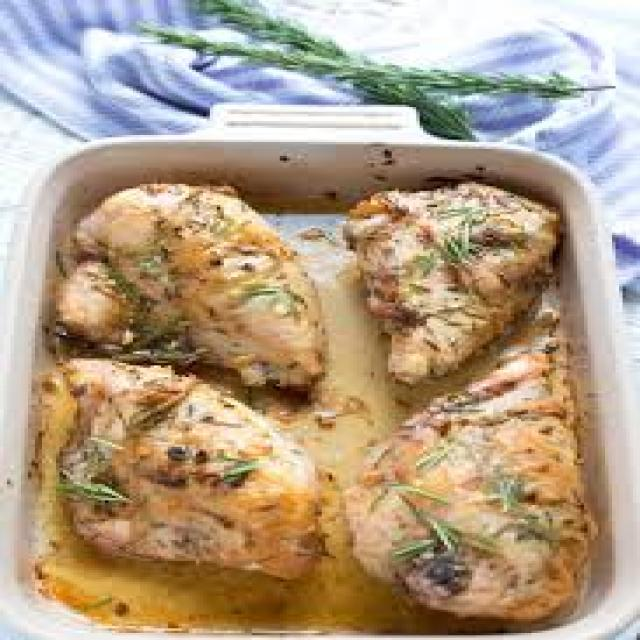Frango: (49, 170, 605, 619)
